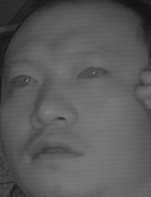eye: (75, 62, 110, 83), (7, 71, 41, 88)
mouth: (26, 133, 84, 168)
